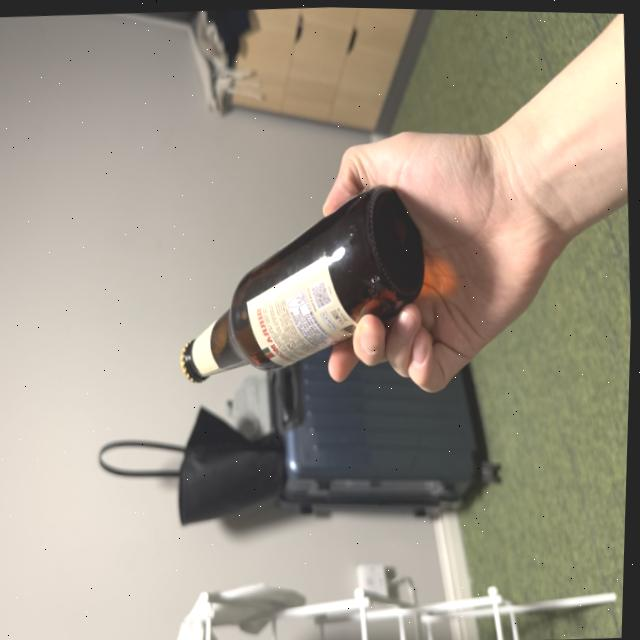beer: (168, 173, 440, 391)
